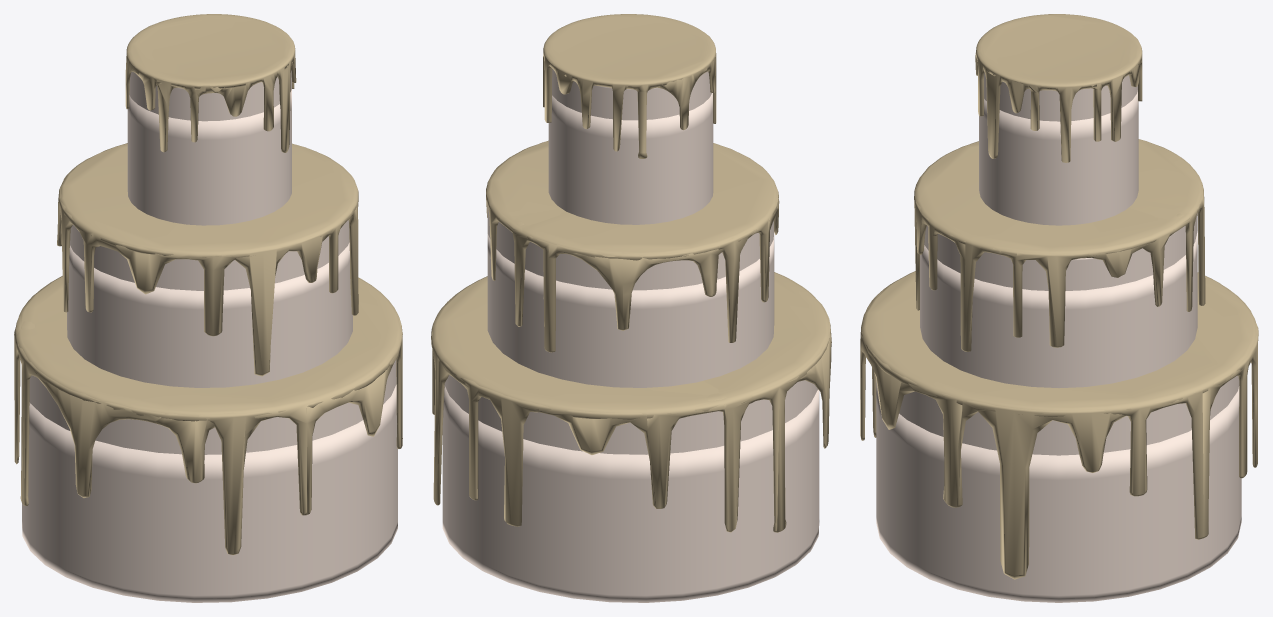
File: 3-tier-white-ganache-none.glb
3 views of the same model, side by side, from view 1: azimuth 30°, elevation 25°; view 2: azimuth 150°, elevation 25°; view 3: azimuth 270°, elevation 25° (orthographic).
Parts seen in each view (by area): view 1: Cylinder.022, tHE ICING.005, Cylinder.014, tHE ICING.002, Cylinder.021, tHE ICING.001; view 2: Cylinder.022, tHE ICING.005, Cylinder.014, tHE ICING.002, Cylinder.021, tHE ICING.001; view 3: Cylinder.022, tHE ICING.005, Cylinder.014, tHE ICING.002, Cylinder.021, tHE ICING.001.
Part boxes in pixels (x1,y1,x2,y2): Cylinder.022: [22, 359, 397, 602]; tHE ICING.005: [14, 276, 402, 555]; Cylinder.014: [67, 220, 352, 387]; tHE ICING.002: [57, 143, 358, 376]; Cylinder.021: [127, 70, 291, 225]; tHE ICING.001: [125, 14, 296, 152]; Cylinder.022: [442, 375, 819, 602]; tHE ICING.005: [431, 272, 831, 532]; Cylinder.014: [487, 205, 774, 387]; tHE ICING.002: [486, 140, 779, 352]; Cylinder.021: [548, 69, 713, 224]; tHE ICING.001: [543, 14, 716, 158]; Cylinder.022: [876, 376, 1241, 602]; tHE ICING.005: [860, 271, 1258, 579]; Cylinder.014: [920, 213, 1197, 387]; tHE ICING.002: [914, 139, 1205, 351]; Cylinder.021: [979, 72, 1138, 225]; tHE ICING.001: [975, 14, 1142, 162].
Size of the model in its own units: 4.33 by 5.81 by 4.43.
